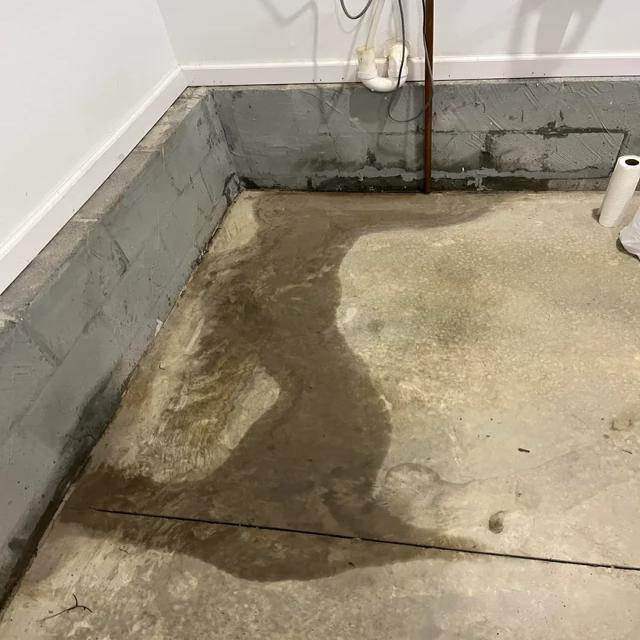water accumulation: (88, 160, 488, 575)
